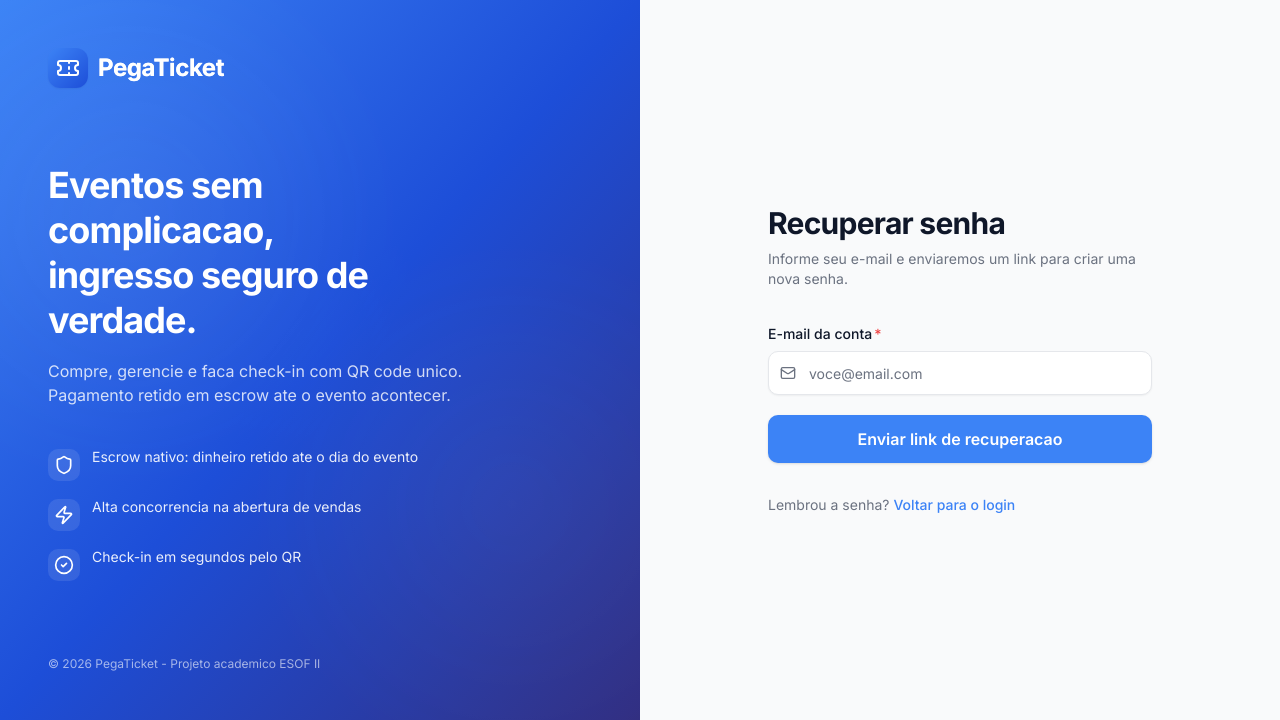
Scenario: <ForgotPassword> › envia solicitacao e mostra confirmacao
Step 1. Type "a@x.com" into the field labelled "E-mail da conta*" → (960, 373), box [768,351,1152,395]
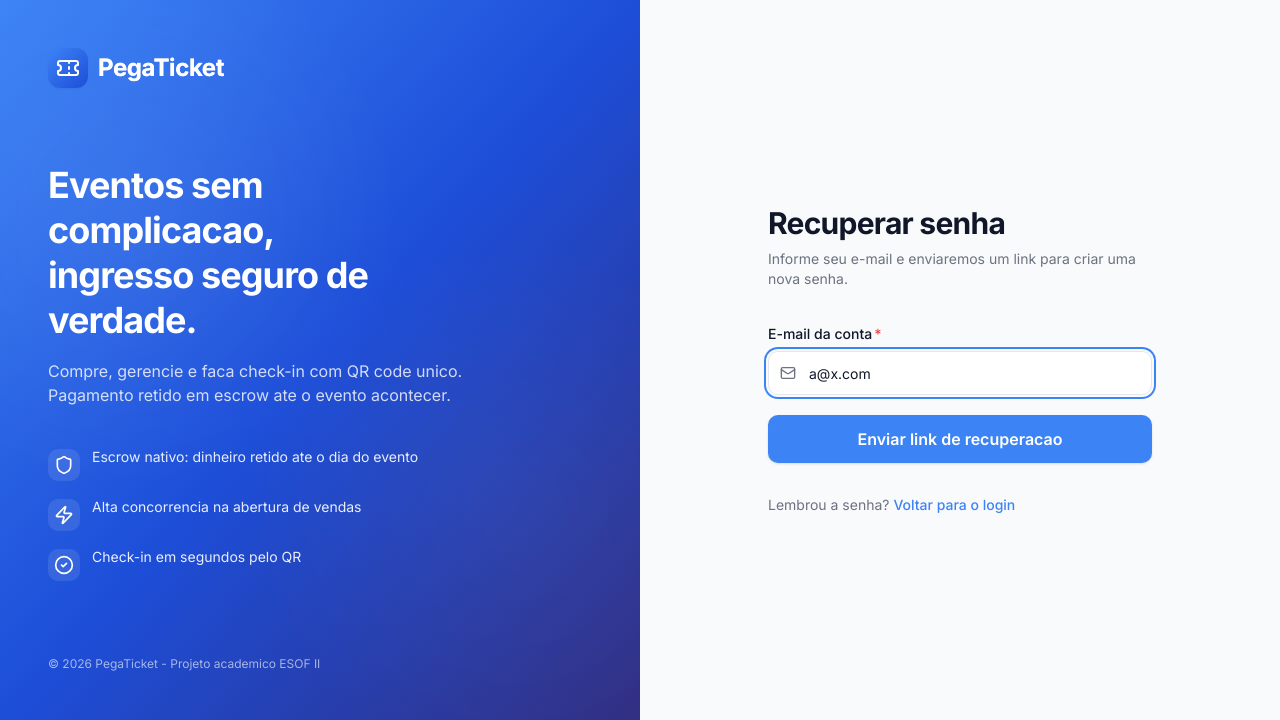
Step 2. Click the button "Enviar link de recuperacao" → (960, 439), box [768,415,1152,463]
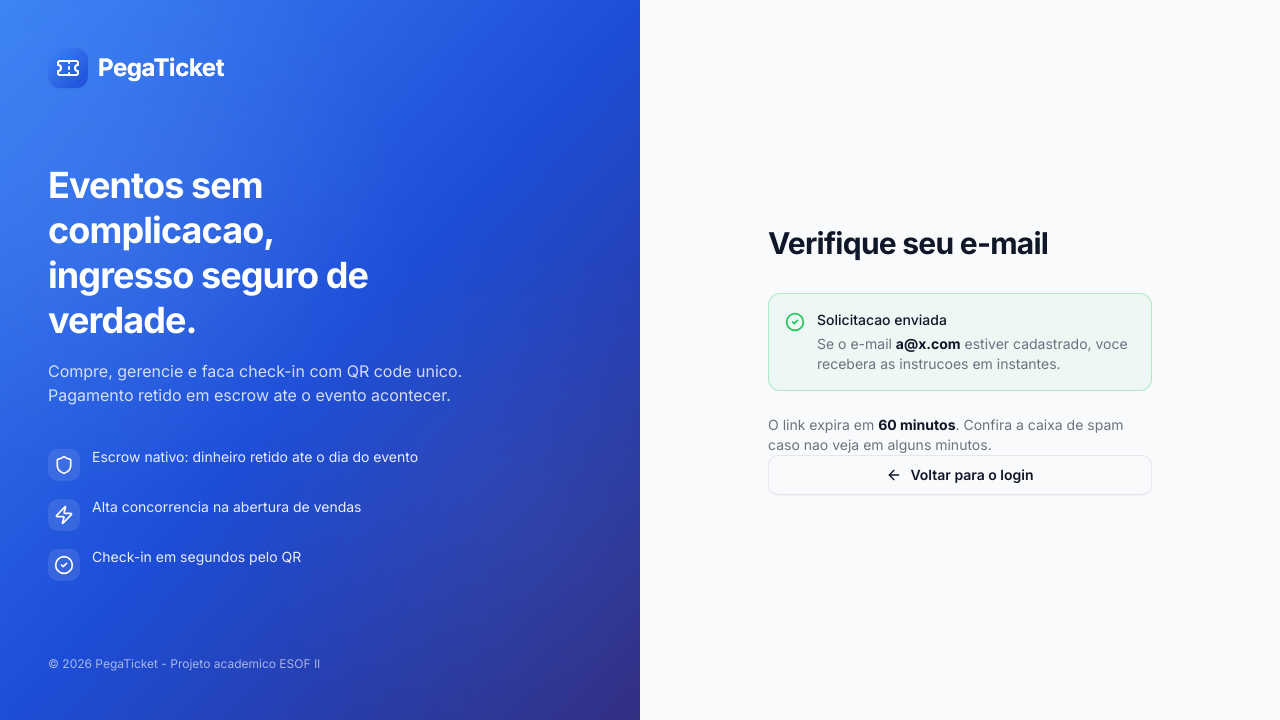
Result: the text "Solicitacao enviada" is shown at [817,311,947,328]
Result: the text "a@x.com" is shown at [896,335,961,352]
